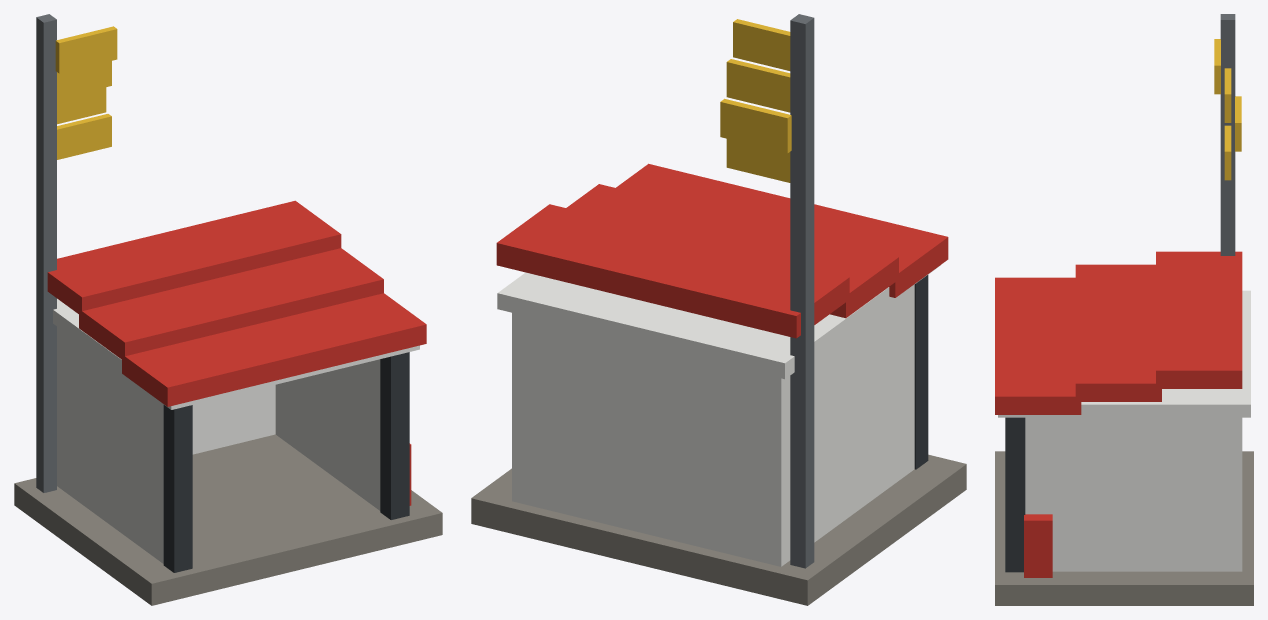
The model's file is marshalPost.glb.
3 views of the same model, side by side, from view 1: azimuth 30°, elevation 25°; view 2: azimuth 150°, elevation 25°; view 3: azimuth 270°, elevation 25° (orthographic). The views are drawn at different scales.
Parts seen in each view (by area): view 1: marshalPost_red, marshalPost_white, marshalPost_concreteDark, marshalPost_steelDark, marshalPost_steel, marshalPost_yellow; view 2: marshalPost_white, marshalPost_red, marshalPost_concreteDark, marshalPost_steel, marshalPost_yellow, marshalPost_steelDark; view 3: marshalPost_white, marshalPost_red, marshalPost_concreteDark, marshalPost_steelDark, marshalPost_steel, marshalPost_yellow.
Boxes of the visible parts, bbox=[...] form: marshalPost_red: bbox=[47, 200, 426, 505]; marshalPost_white: bbox=[53, 298, 419, 563]; marshalPost_concreteDark: bbox=[14, 434, 442, 605]; marshalPost_steelDark: bbox=[163, 352, 409, 572]; marshalPost_steel: bbox=[36, 14, 56, 492]; marshalPost_yellow: bbox=[55, 26, 117, 159]; marshalPost_white: bbox=[497, 265, 940, 566]; marshalPost_red: bbox=[496, 163, 948, 338]; marshalPost_concreteDark: bbox=[471, 454, 966, 605]; marshalPost_steel: bbox=[790, 14, 814, 568]; marshalPost_yellow: bbox=[720, 19, 791, 182]; marshalPost_steelDark: bbox=[914, 275, 928, 469]; marshalPost_white: bbox=[998, 290, 1250, 571]; marshalPost_red: bbox=[995, 251, 1242, 577]; marshalPost_concreteDark: bbox=[995, 451, 1253, 605]; marshalPost_steelDark: bbox=[1005, 417, 1025, 572]; marshalPost_steel: bbox=[1220, 14, 1235, 255]; marshalPost_yellow: bbox=[1214, 39, 1241, 180].
Bounding box in the file's own units: 5.5 × 8.9 × 4.5.
